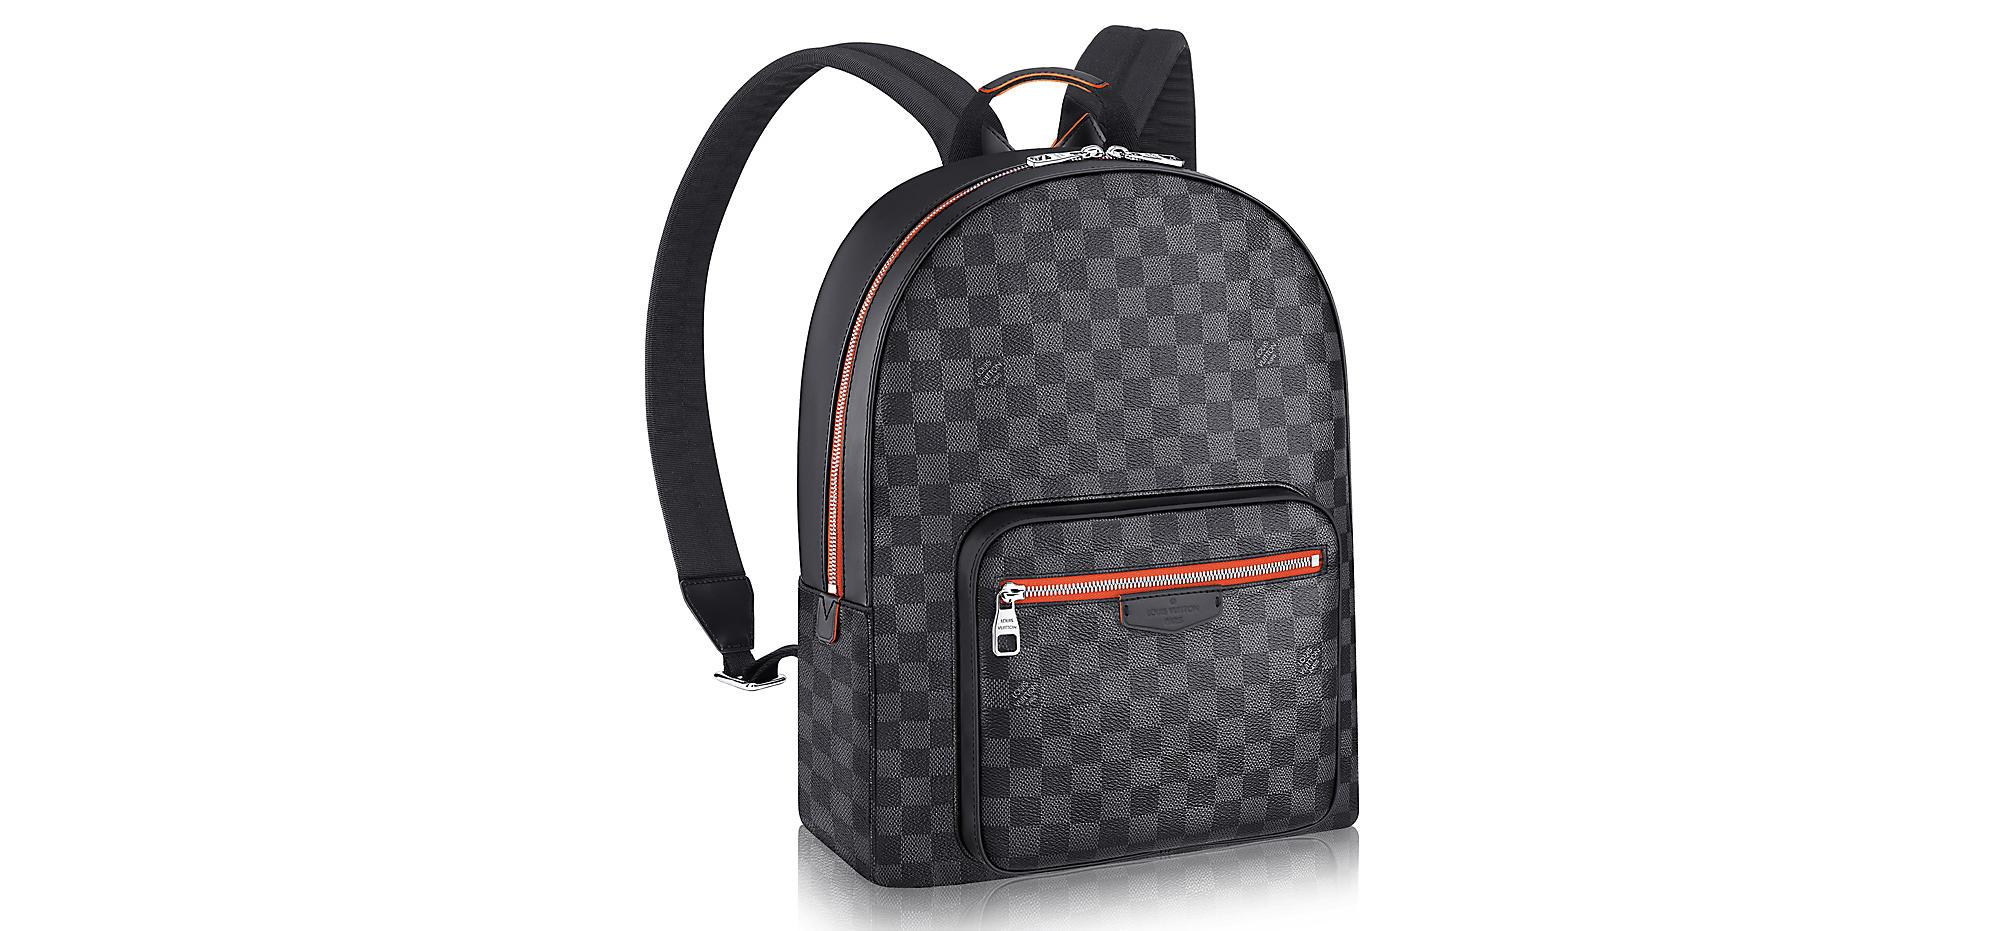LOUIS-VUITTON: (1142, 599, 1198, 622)
